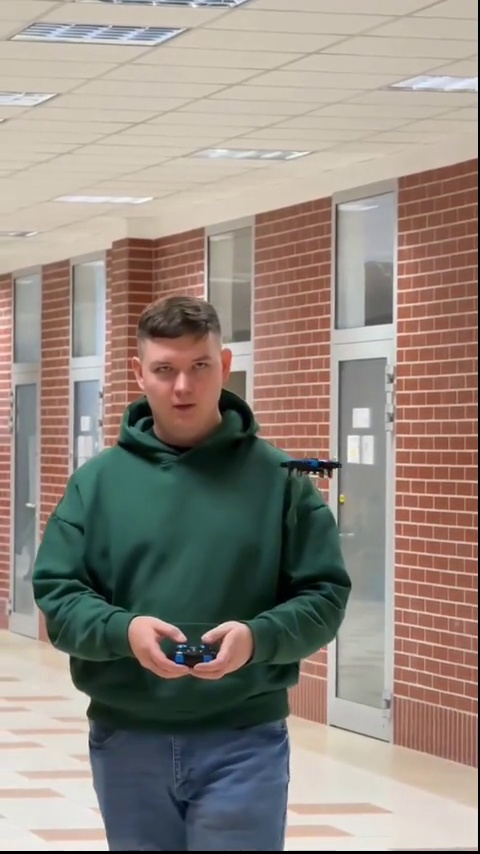drone: (278, 453, 345, 482)
no vest: (45, 300, 349, 829)
